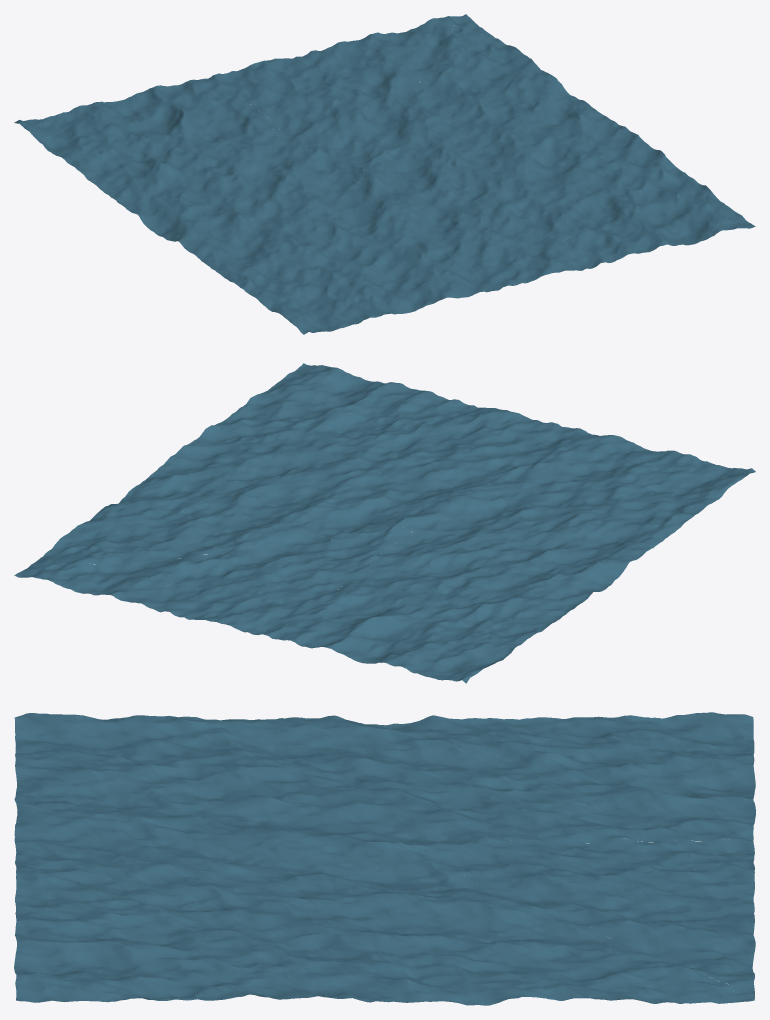
Rendered from ocean-loop.glb.
3 views of the same model, one above another, from view 1: azimuth 30°, elevation 25°; view 2: azimuth 150°, elevation 25°; view 3: azimuth 270°, elevation 25° (orthographic). The views are drawn at different scales.
Parts seen in each view (by area): view 1: oceanbake_0; view 2: oceanbake_0; view 3: oceanbake_0.
Boxes of the visible parts, x1,y1,x2,y2 form: oceanbake_0: (14, 14, 755, 334); oceanbake_0: (14, 363, 755, 683); oceanbake_0: (14, 712, 755, 1005).
Bounding box in the file's own units: 273 × 7.84 × 301.
